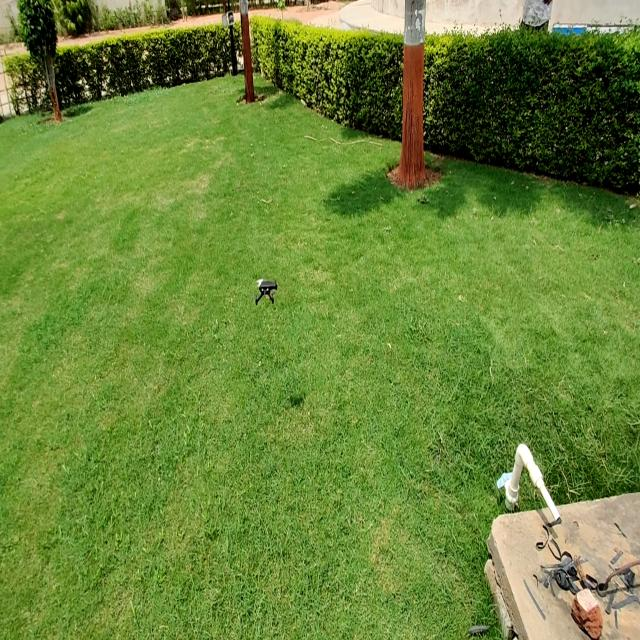drone: (243, 271, 284, 311)
